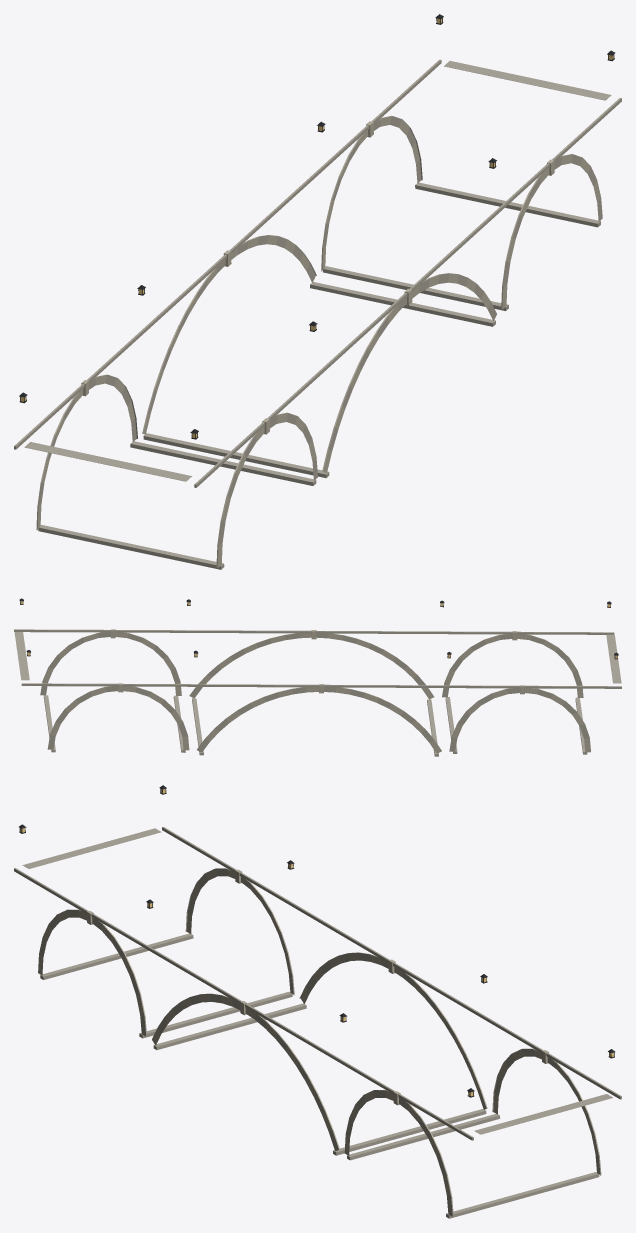
The model's file is SM_Bridge_ToGym_NoCol.fbx.
3 views of the same model, one above another, from view 1: azimuth 30°, elevation 25°; view 2: azimuth 150°, elevation 25°; view 3: azimuth 270°, elevation 25° (orthographic). The views are drawn at different scales.
Visible parts, largest first — view 1: SM_Bridge_ToGym_NoCol; view 2: SM_Bridge_ToGym_NoCol; view 3: SM_Bridge_ToGym_NoCol.
Part boxes in pixels (bbox=[...]): SM_Bridge_ToGym_NoCol: bbox=[14, 14, 621, 569]; SM_Bridge_ToGym_NoCol: bbox=[14, 598, 621, 756]; SM_Bridge_ToGym_NoCol: bbox=[14, 785, 621, 1218].
Bounding box in the file's own units: 40 × 9.02 × 30.61.
